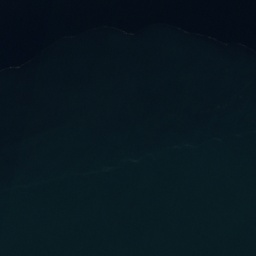Marine Debris: (0, 57, 35, 72)
